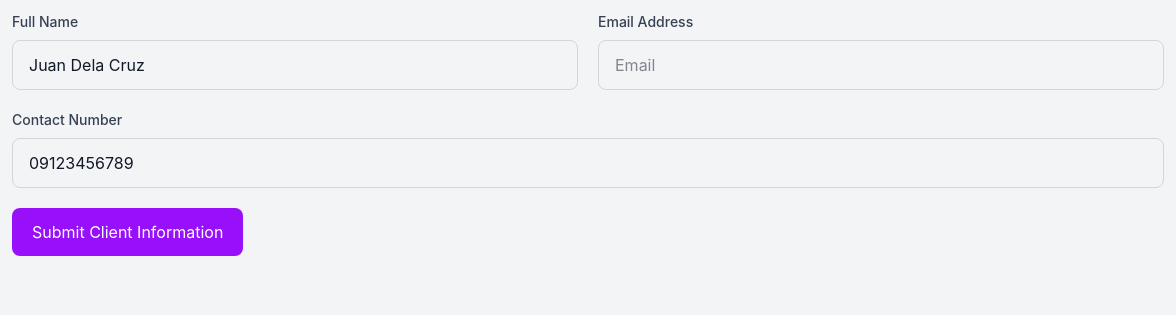
Test: ClientInformation Component › shows message when some fields are missing
Step 1. Click the button "Submit Client Information" → (128, 232), box [12,208,243,256]
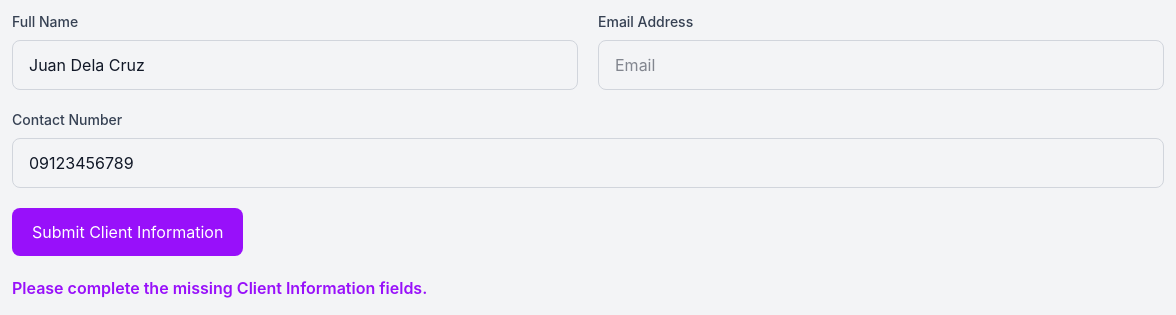
Result: the text "Please complete the missing Client Information fields." is shown at [12,278,427,298]
